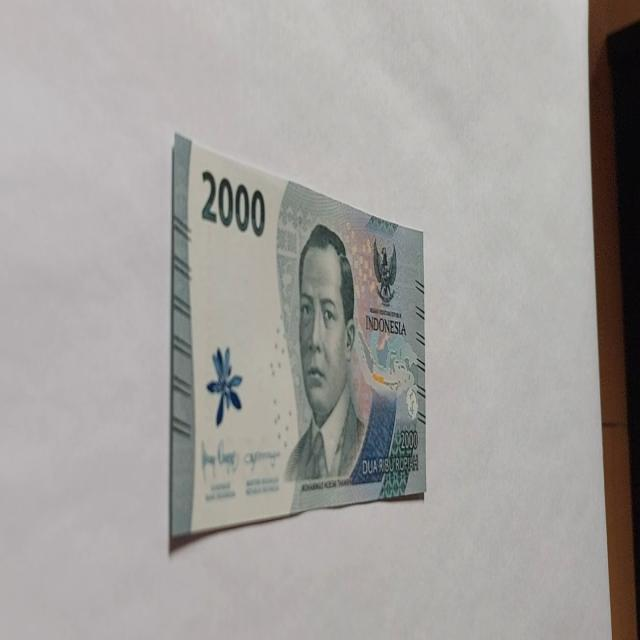dua ribu rupiah: (170, 130, 426, 542), (282, 222, 368, 484)
